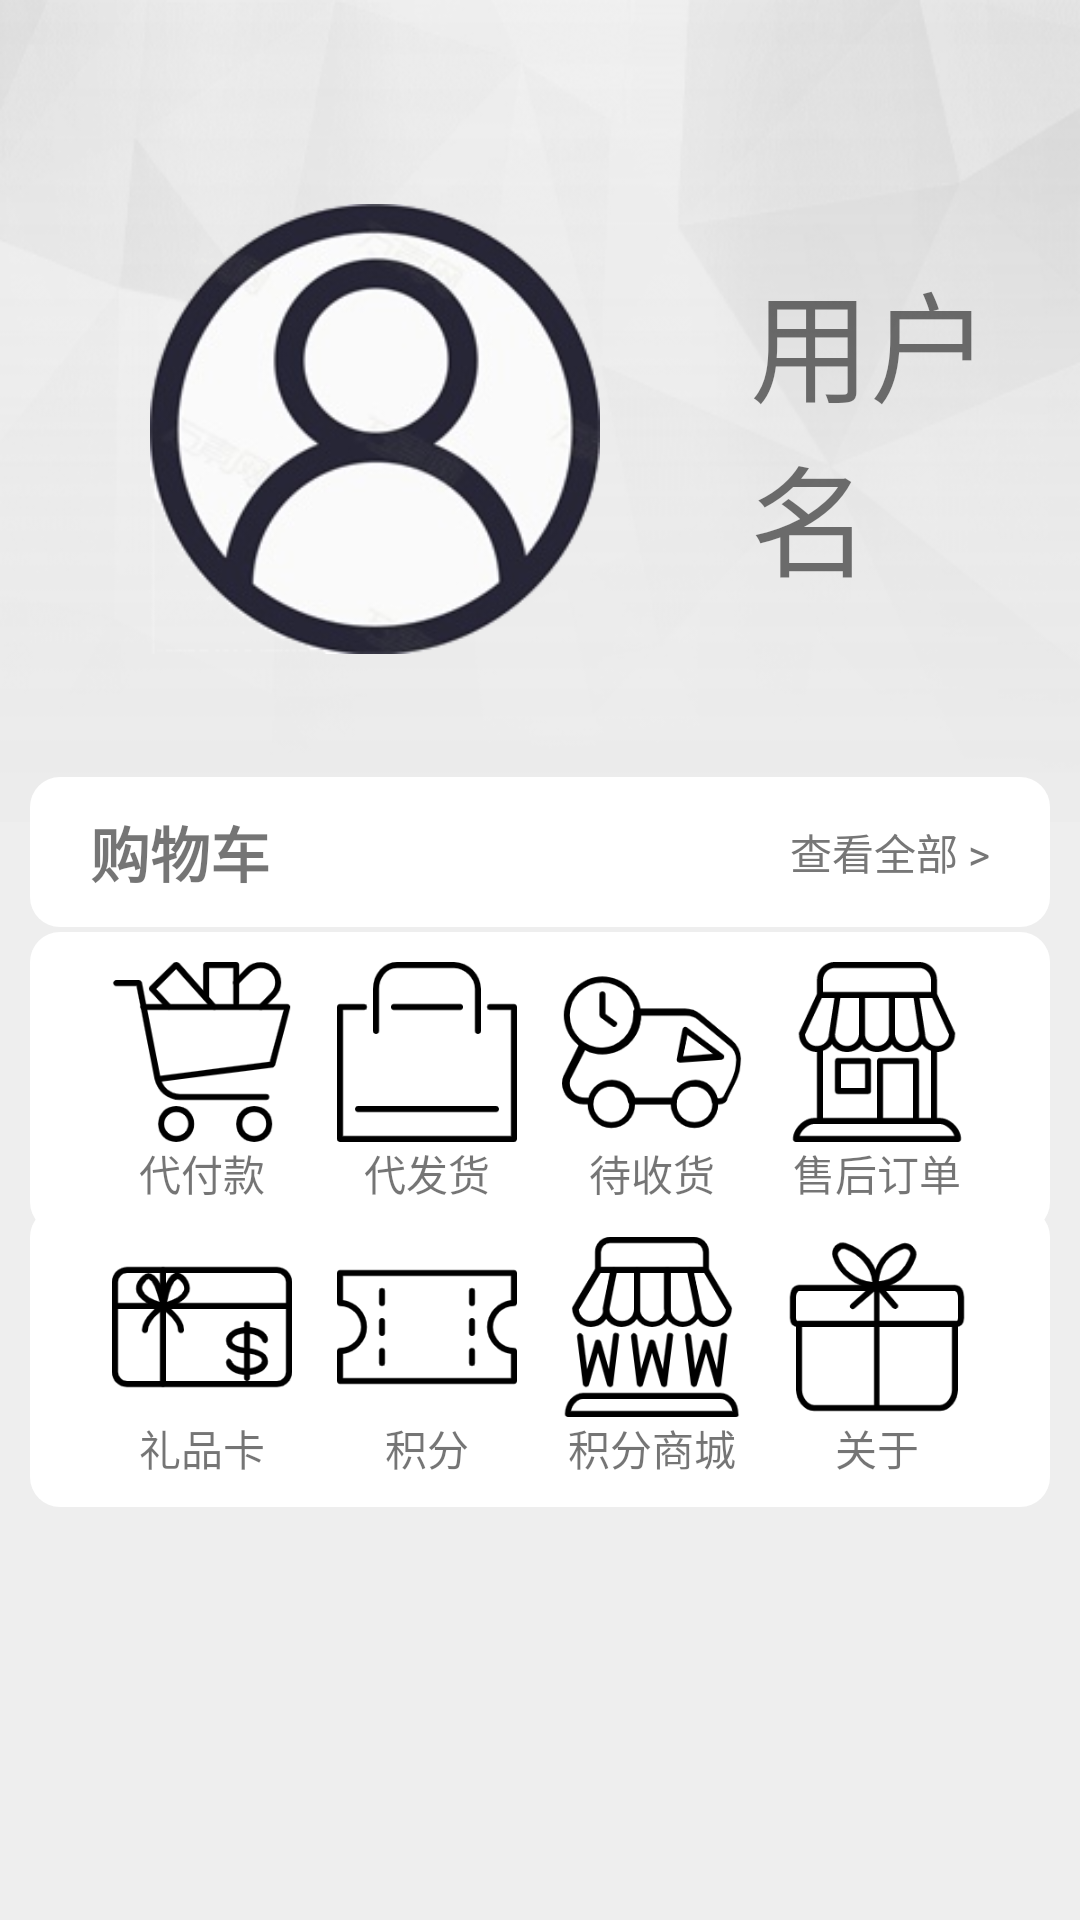

Point at icon controls on the screen. Image size 1080w x 1920h, points as (x=x, y=y).
buy: (x=202, y=1052)
